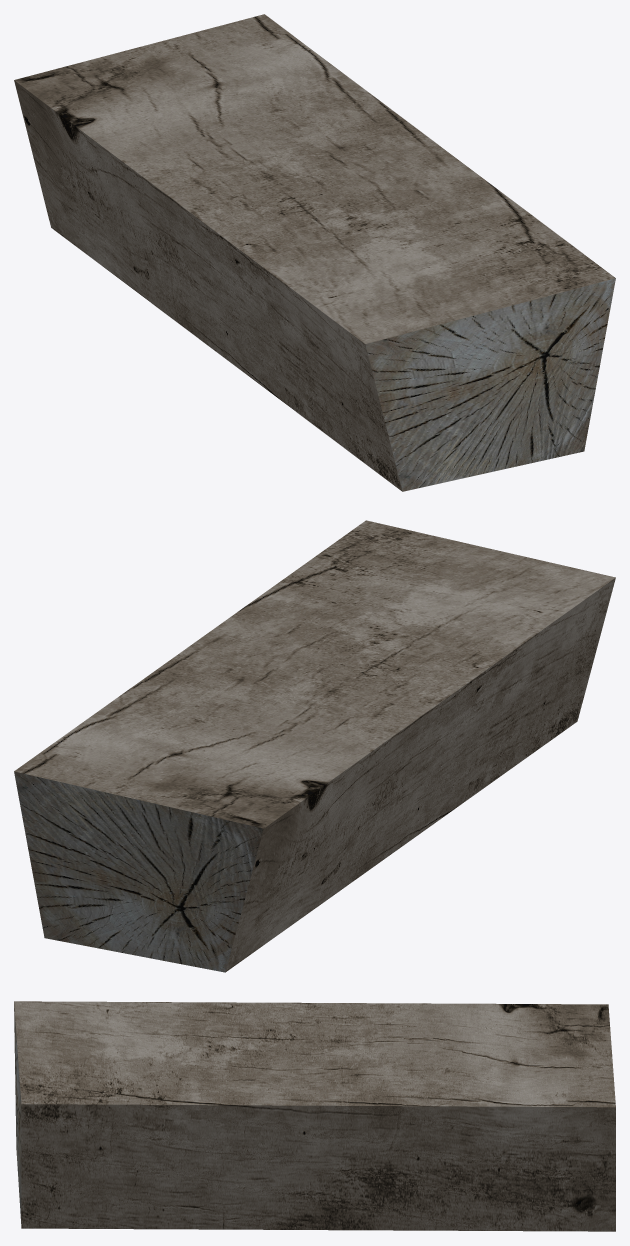
File: Woodpile_LOD03.fbx
3 renders of one model, top to bottom at view 1: azimuth 30°, elevation 25°; view 2: azimuth 150°, elevation 25°; view 3: azimuth 270°, elevation 25°, orthographic. The views are drawn at different scales.
Parts seen in each view (by area): view 1: Mesh Object; view 2: Mesh Object; view 3: Mesh Object.
Part boxes in pixels (bbox=[...]): Mesh Object: bbox=[14, 14, 615, 491]; Mesh Object: bbox=[14, 520, 615, 972]; Mesh Object: bbox=[14, 1001, 615, 1231].
Bounding box in the file's own units: 0.599 × 0.3614 × 1.44.
